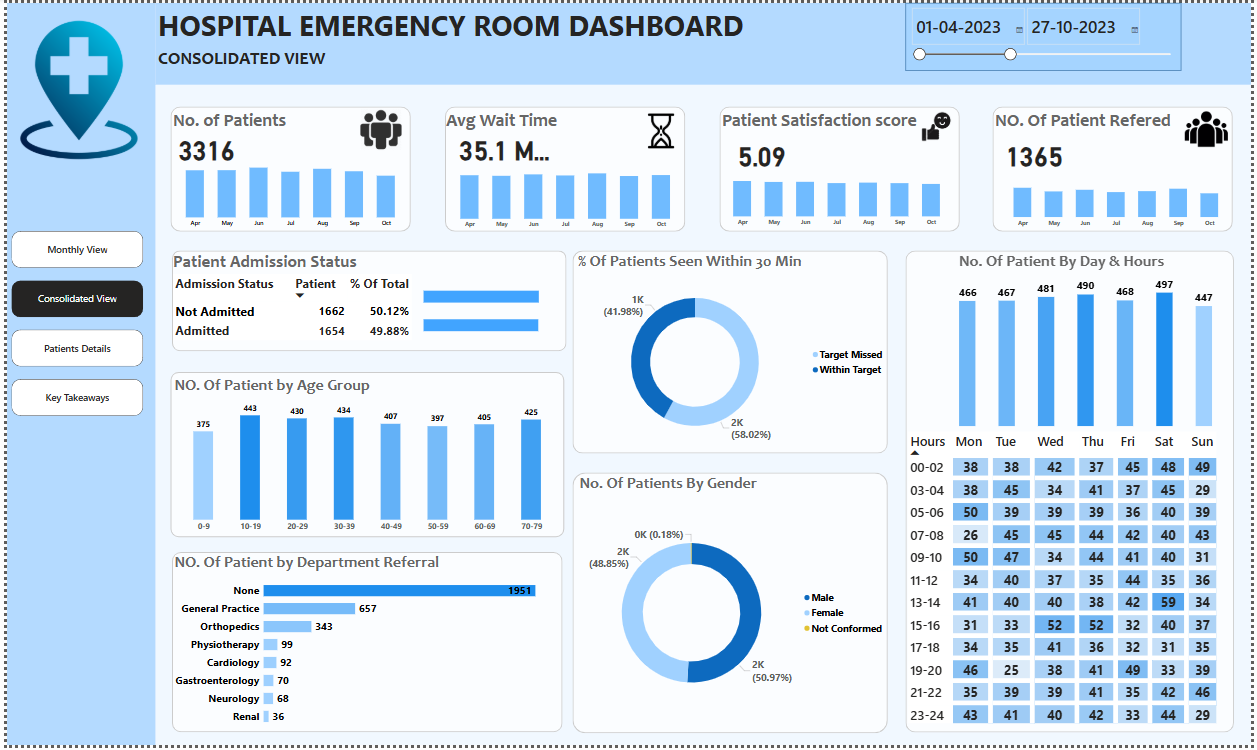

This screenshot's page, from the dashboard's own definition file:
{"tool":"powerbi","page":{"name":"Consolidated View","canvas":[2600,1550],"ordinal":1},"visuals":[{"type":"shape","box":[341.6,216.1,502,261.4],"z":0},{"type":"shape","box":[914.5,216.1,502,261.4],"z":1000},{"type":"shape","box":[1487.3,216.1,502,261.4],"z":2000},{"type":"shape","box":[2060.1,216.1,502,261.4],"z":3000},{"type":"shape","box":[310.2,0,2290.2,170.8],"z":4000},{"type":"shape","box":[0,0,310.2,1551.2],"z":5000},{"type":"textbox","box":[310.2,0,1247.9,94.1],"z":6000},{"type":"textbox","box":[310.3,86.2,406.9,86.2],"z":7000},{"type":"card","fields":{"Values":["Hospital ER_Data.NO. Of Patient"]},"box":[341.6,258,149.9,90.6],"z":8000},{"type":"textbox","box":[341.6,216.1,282.4,62.7],"z":10000},{"type":"columnChart","fields":{"Y":["Hospital ER_Data.NO. Of Patient"],"Category":["Date Table.Month"]},"box":[341.6,310.2,502,167.3],"z":11000},{"type":"card","fields":{"Values":["Hospital ER_Data.Avg. Wait Time"]},"box":[934.2,258,209.2,90.6],"z":13000},{"type":"textbox","box":[913.3,216.1,251,62.7],"z":14000},{"type":"columnChart","fields":{"Category":["Date Table.Month"],"Y":["Avg(Hospital ER_Data.Patient Waittime)"]},"box":[913.8,331,503.4,148.3],"z":15000},{"type":"textbox","box":[1488.5,216.1,502,62.7],"z":16000},{"type":"card","fields":{"Values":["Hospital ER_Data.Satisfaction Score"]},"box":[1488.5,278.9,174.3,69.7],"z":17000},{"type":"columnChart","fields":{"Category":["Date Table.Month"],"Y":["Hospital ER_Data.Satisfaction Score"]},"box":[1486.2,348.3,496.6,127.6],"z":18000},{"type":"textbox","box":[2060.1,216.1,502,62.7],"z":19000},{"type":"card","fields":{"Values":["Hospital ER_Data.No. Of Patient Referred"]},"box":[2060.1,278.9,174.3,69.7],"z":20000},{"type":"shape","box":[344.8,517.2,824.1,210.3],"z":21000},{"type":"shape","box":[341.6,770.4,822.7,345.1],"z":22000},{"type":"columnChart","fields":{"Category":["Date Table.Month"],"Y":["Hospital ER_Data.No. Of Patient Referred"]},"box":[2070.6,348.6,491.5,129],"z":23000},{"type":"pivotTable","title":"Patient Admission Status","fields":{"Rows":["Hospital ER_Data.Admission Status"],"Values":["Hospital ER_Data.NO. Of Patient1","Hospital ER_Data.NO. Of Patient"]},"box":[341.6,515.9,543.8,264.9],"z":24000},{"type":"barChart","fields":{"Category":["Hospital ER_Data.Admission Status"],"Y":["Hospital ER_Data.NO. Of Patient"]},"box":[864.5,557.7,299.8,167.3],"z":25000},{"type":"clusteredColumnChart","fields":{"Category":["Hospital ER_Data.Age Group"],"Y":["Hospital ER_Data.NO. Of Patient"]},"box":[344.8,775.9,817.2,337.9],"z":26000},{"type":"shape","box":[1182.8,517.2,658.6,424.1],"z":27000},{"type":"shape","box":[345.1,1146.8,815.7,376.5],"z":28000},{"type":"clusteredBarChart","fields":{"Category":["Hospital ER_Data.Department Referral"],"Y":["Hospital ER_Data.NO. Of Patient"]},"box":[344.8,1148.3,817.2,375.9],"z":29000},{"type":"shape","box":[1182.8,979.3,658.6,544.8],"z":30000},{"type":"donutChart","title":"% Of Patients Seen Within 30 Min","fields":{"Category":["Hospital ER_Data.Wait Time"],"Y":["Hospital ER_Data.NO. Of Patient"]},"box":[1186.2,517.2,655.2,424.1],"z":31000},{"type":"donutChart","title":"No. Of Patients By Gender","fields":{"Y":["Hospital ER_Data.NO. Of Patient"],"Category":["Hospital ER_Data.Patient Gender"]},"box":[1189.7,979.3,651.7,544.8],"z":32000},{"type":"shape","box":[1875.9,517.2,686.2,1006.9],"z":33000},{"type":"pivotTable","fields":{"Columns":["Date Table.Day Name"],"Rows":["Hospital ER_Data.WaitTime Intervel"],"Values":["Hospital ER_Data.NO. Of Patient"]},"box":[1875.9,889.7,686.2,634.5],"z":34000},{"type":"columnChart","title":"No. Of Patient By Day & Hours","fields":{"Category":["Date Table.Day Name"],"Y":["Hospital ER_Data.NO. Of Patient"]},"box":[1982.8,517.2,541.4,372.4],"z":35000},{"type":"slicer","fields":{"Values":["Date Table.Date"]},"box":[1875.9,0,575.9,141.4],"z":36000},{"type":"image","box":[0,31,300,300],"z":37000},{"type":"image","box":[717.2,217.2,127.6,96.6],"z":38000},{"type":"image","box":[1317.2,224.1,100,82.8],"z":39000},{"type":"image","box":[1889.7,213.8,103.4,89.7],"z":40000},{"type":"image","box":[2451.7,213.8,110.3,100],"z":41000},{"type":"pageNavigator","box":[10.5,477.6,275.4,386.9],"z":41001}]}

Visuals, with their boxes in screenshot pixels (x1, y1, x2, y2), scaled from the page's 2600x1550 canvas onto the 1257x750 screenshot:
shape: crop(165, 105, 408, 231)
shape: crop(442, 105, 685, 231)
shape: crop(719, 105, 962, 231)
shape: crop(996, 105, 1239, 231)
shape: crop(150, 0, 1256, 83)
shape: crop(0, 0, 150, 749)
textbox: crop(150, 0, 753, 46)
textbox: crop(150, 42, 347, 83)
card - Hospital ER_Data.NO. Of Patient: crop(165, 125, 238, 169)
textbox: crop(165, 105, 302, 135)
columnChart - Hospital ER_Data.NO. Of Patient x Date Table.Month: crop(165, 150, 408, 231)
card - Hospital ER_Data.Avg. Wait Time: crop(452, 125, 553, 169)
textbox: crop(442, 105, 563, 135)
columnChart - Date Table.Month x Avg(Hospital ER_Data.Patient Waittime): crop(442, 160, 685, 232)
textbox: crop(720, 105, 962, 135)
card - Hospital ER_Data.Satisfaction Score: crop(720, 135, 804, 169)
columnChart - Date Table.Month x Hospital ER_Data.Satisfaction Score: crop(719, 169, 959, 230)
textbox: crop(996, 105, 1239, 135)
card - Hospital ER_Data.No. Of Patient Referred: crop(996, 135, 1080, 169)
shape: crop(167, 250, 565, 352)
shape: crop(165, 373, 563, 540)
columnChart - Date Table.Month x Hospital ER_Data.No. Of Patient Referred: crop(1001, 169, 1239, 231)
"Patient Admission Status" pivotTable: crop(165, 250, 428, 378)
barChart - Hospital ER_Data.Admission Status x Hospital ER_Data.NO. Of Patient: crop(418, 270, 563, 351)
clusteredColumnChart - Hospital ER_Data.Age Group x Hospital ER_Data.NO. Of Patient: crop(167, 375, 562, 539)
shape: crop(572, 250, 890, 455)
shape: crop(167, 555, 561, 737)
clusteredBarChart - Hospital ER_Data.Department Referral x Hospital ER_Data.NO. Of Patient: crop(167, 556, 562, 738)
shape: crop(572, 474, 890, 737)
"% Of Patients Seen Within 30 Min" donutChart: crop(573, 250, 890, 455)
"No. Of Patients By Gender" donutChart: crop(575, 474, 890, 737)
shape: crop(907, 250, 1239, 737)
pivotTable - Date Table.Day Name x Hospital ER_Data.WaitTime Intervel: crop(907, 431, 1239, 738)
"No. Of Patient By Day & Hours" columnChart: crop(959, 250, 1220, 430)
slicer - Date Table.Date: crop(907, 0, 1185, 68)
image: crop(0, 15, 145, 160)
image: crop(347, 105, 408, 152)
image: crop(637, 108, 685, 148)
image: crop(914, 103, 964, 147)
image: crop(1185, 103, 1239, 152)
pageNavigator: crop(5, 231, 138, 418)
